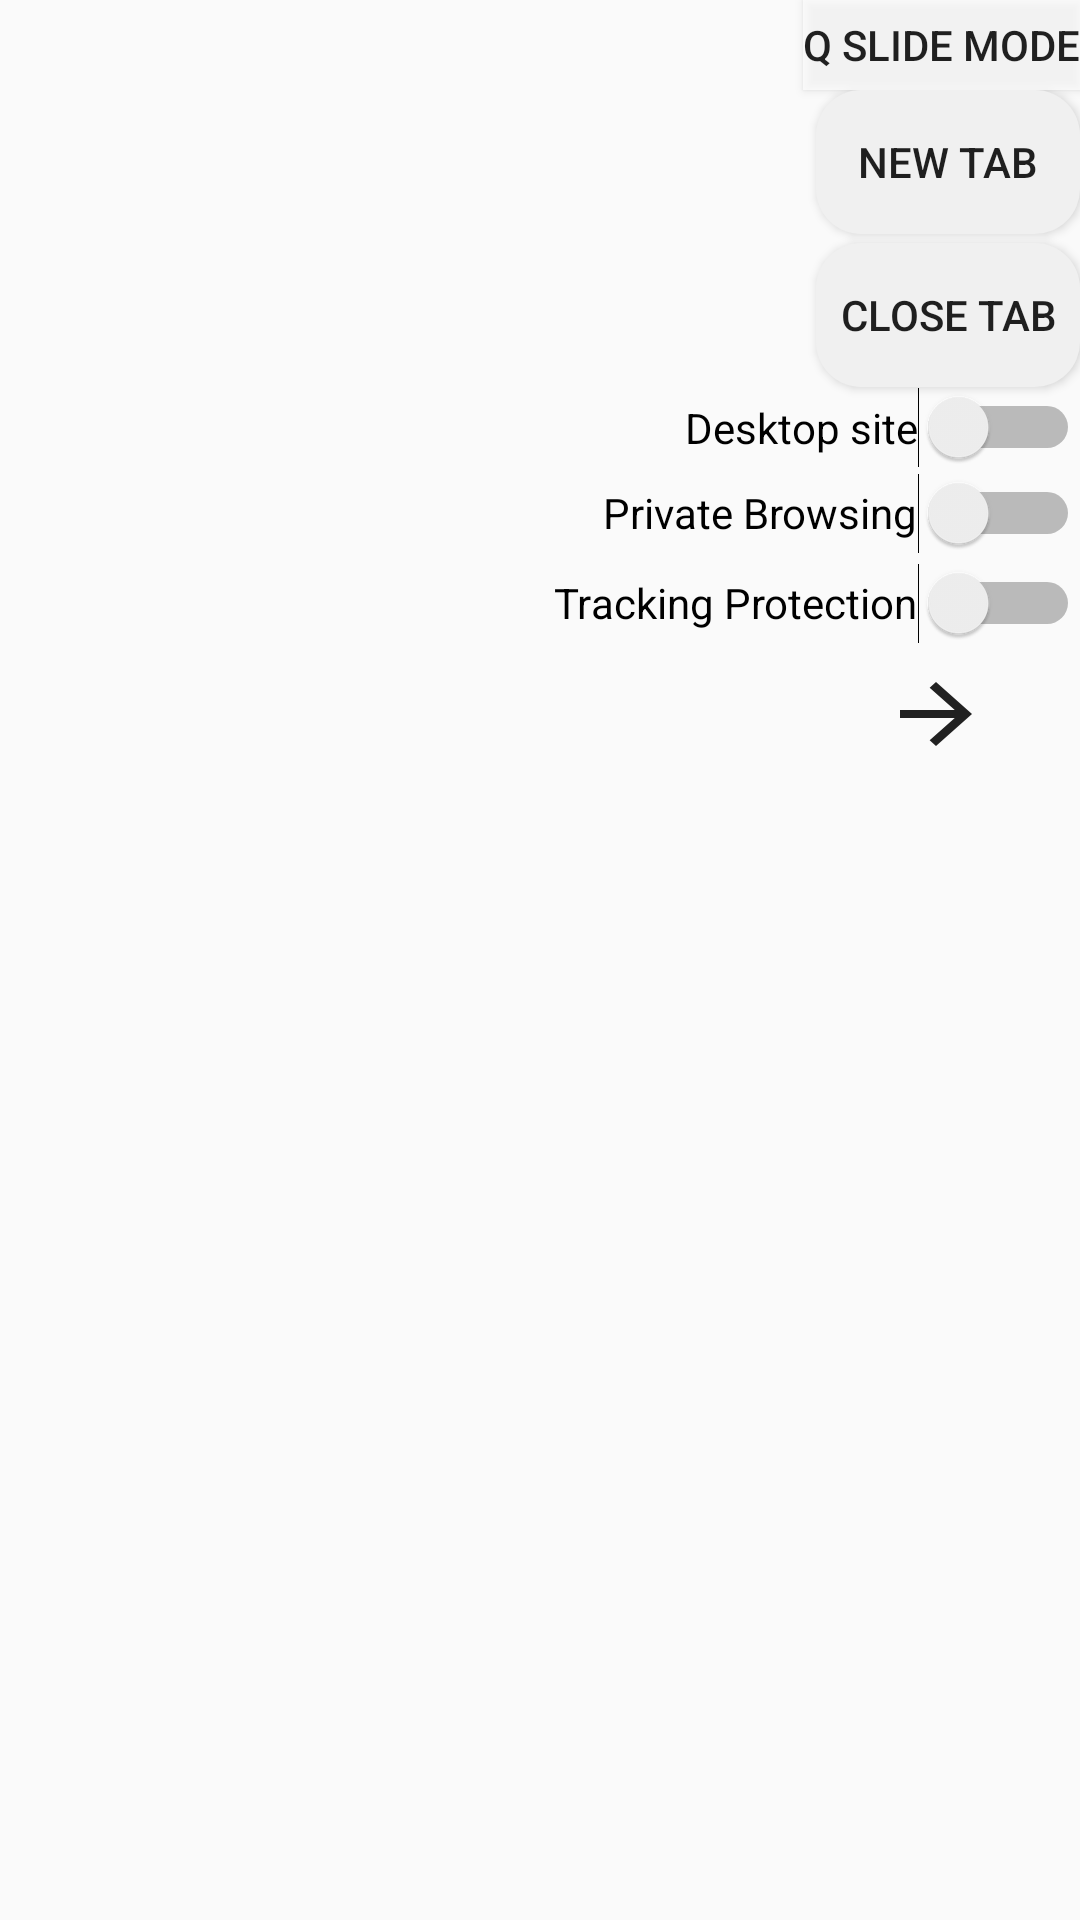

Icon bounding boxes for this 1080 × 1920 phone screenshot, format {"left": x1, "top": y1, "right": x2, "bottom": y2}:
arrow forward: {"left": 900, "top": 682, "right": 972, "bottom": 746}
